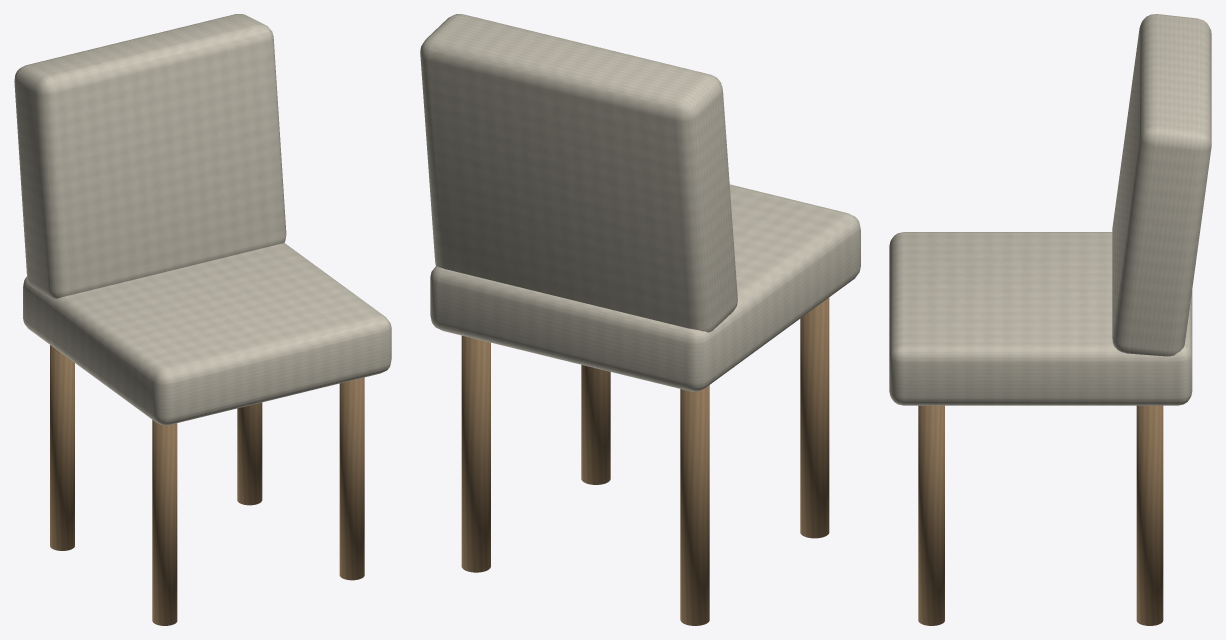
Rendered from dining-chair.glb.
3 renders of one model, left to right at view 1: azimuth 30°, elevation 25°; view 2: azimuth 150°, elevation 25°; view 3: azimuth 270°, elevation 25°, orthographic. The views are drawn at different scales.
Parts seen in each view (by area): view 1: CANONICAL back, CANONICAL seat, CANONICAL oak leg, CANONICAL oak leg.002, CANONICAL oak leg.001, CANONICAL oak leg.003; view 2: CANONICAL back, CANONICAL seat, CANONICAL oak leg.001, CANONICAL oak leg.003, CANONICAL oak leg, CANONICAL oak leg.002; view 3: CANONICAL seat, CANONICAL back, CANONICAL oak leg.003, CANONICAL oak leg.002.
Boxes of the visible parts, <box> form: CANONICAL back: <box>14,14,286,298</box>; CANONICAL seat: <box>23,243,391,425</box>; CANONICAL oak leg: <box>152,420,177,625</box>; CANONICAL oak leg.002: <box>339,377,364,580</box>; CANONICAL oak leg.001: <box>50,345,74,550</box>; CANONICAL oak leg.003: <box>237,402,262,505</box>; CANONICAL back: <box>420,14,737,332</box>; CANONICAL seat: <box>430,184,860,391</box>; CANONICAL oak leg.001: <box>680,385,709,625</box>; CANONICAL oak leg.003: <box>461,335,490,572</box>; CANONICAL oak leg: <box>800,297,829,538</box>; CANONICAL oak leg.002: <box>581,365,610,484</box>; CANONICAL seat: <box>889,232,1192,405</box>; CANONICAL back: <box>1112,14,1211,356</box>; CANONICAL oak leg.003: <box>1136,405,1163,625</box>; CANONICAL oak leg.002: <box>918,405,944,625</box>.
Bounding box in the file's own units: 0.48 × 0.9125 × 0.5319.
Materials: 2 (2 with a texture image).
